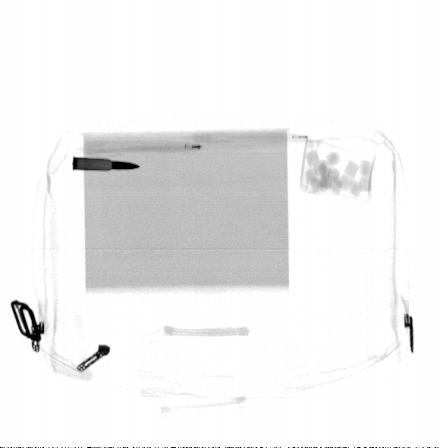Bullet: (73, 156, 142, 172)
